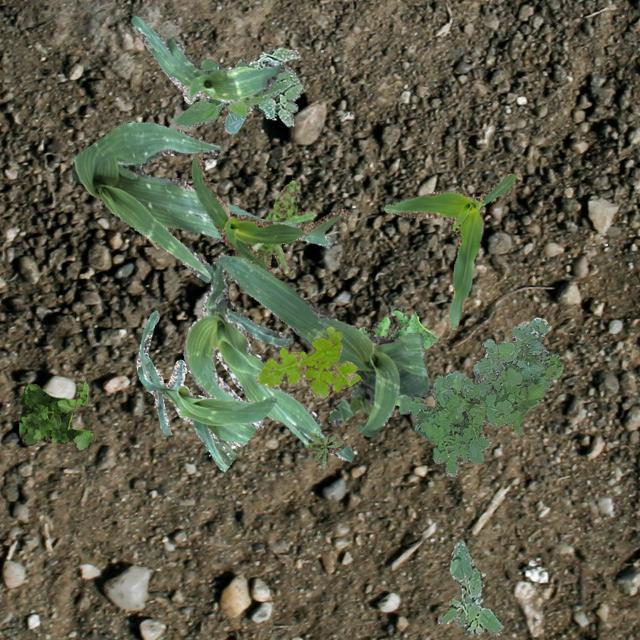crop: (70, 122, 332, 280), (216, 252, 432, 436), (182, 260, 352, 460), (136, 310, 276, 470), (382, 172, 514, 328), (190, 150, 348, 274), (130, 14, 284, 102)
weed: (398, 316, 560, 476), (225, 180, 315, 280), (172, 58, 286, 132), (256, 324, 360, 398), (358, 308, 437, 404), (436, 538, 501, 636), (18, 380, 92, 448), (245, 46, 303, 126), (306, 432, 346, 468)
